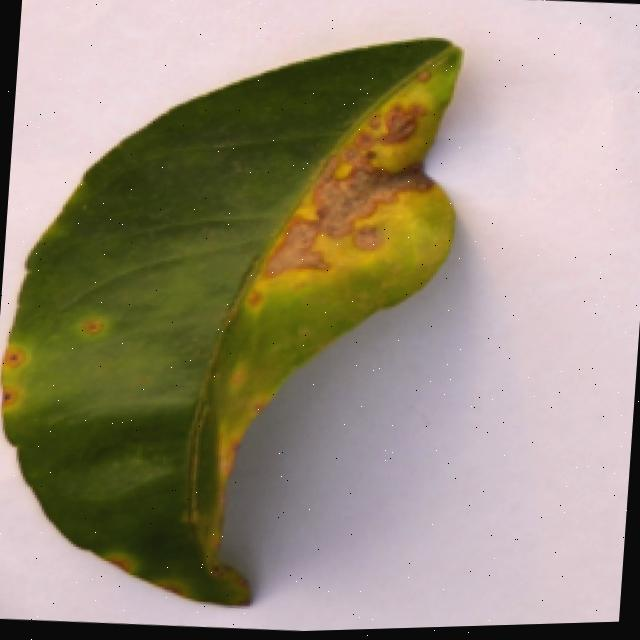canker: (2, 36, 459, 599), (224, 36, 466, 330), (206, 355, 275, 515), (0, 322, 29, 419), (88, 549, 140, 580), (74, 305, 112, 344)
